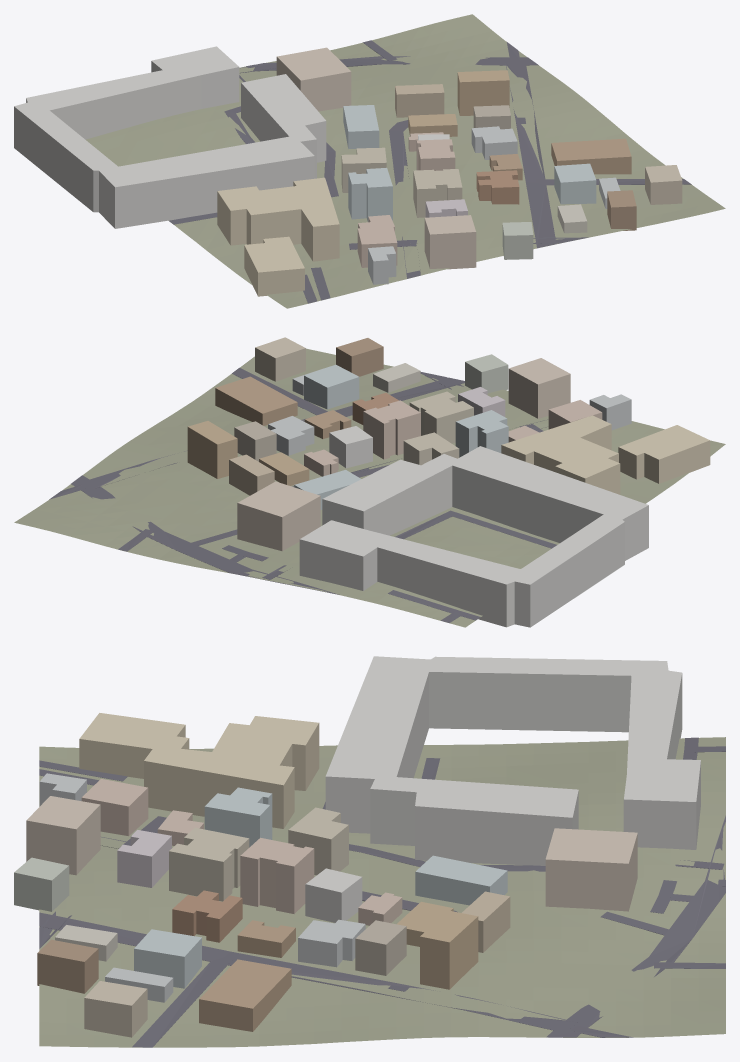
Rendered from chunk_4_1.glb.
3 renders of one model, top to bottom at view 1: azimuth 30°, elevation 25°; view 2: azimuth 150°, elevation 25°; view 3: azimuth 270°, elevation 25°, orthographic. The views are drawn at different scales.
Parts seen in each view (by area): view 1: geometry_30, geometry_0, geometry_27, geometry_20, geometry_26, geometry_32, geometry_11, geometry_29, geometry_3, geometry_23, geometry_5, geometry_10 (+19 smaller); view 2: geometry_0, geometry_30, geometry_27, geometry_20, geometry_26, geometry_11, geometry_29, geometry_4, geometry_23, geometry_31, geometry_10, geometry_5 (+21 smaller); view 3: geometry_30, geometry_0, geometry_27, geometry_20, geometry_26, geometry_29, geometry_4, geometry_11, geometry_5, geometry_32, geometry_23, geometry_31 (+23 smaller).
Boxes of the visible parts, x1=… form: geometry_30: x1=86, y1=14, x2=725, y2=308; geometry_0: x1=14, y1=46, x2=326, y2=228; geometry_27: x1=217, y1=177, x2=339, y2=261; geometry_20: x1=276, y1=47, x2=351, y2=111; geometry_26: x1=244, y1=236, x2=304, y2=296; geometry_32: x1=505, y1=61, x2=556, y2=248; geometry_11: x1=424, y1=215, x2=476, y2=269; geometry_29: x1=551, y1=138, x2=631, y2=174; geometry_3: x1=348, y1=167, x2=392, y2=221; geometry_23: x1=457, y1=70, x2=509, y2=115; geometry_5: x1=413, y1=169, x2=462, y2=217; geometry_10: x1=554, y1=163, x2=596, y2=204; geometry_0: x1=299, y1=446, x2=648, y2=627; geometry_30: x1=14, y1=348, x2=725, y2=627; geometry_27: x1=501, y1=415, x2=620, y2=494; geometry_20: x1=237, y1=481, x2=320, y2=551; geometry_26: x1=618, y1=425, x2=710, y2=483; geometry_11: x1=508, y1=358, x2=570, y2=418; geometry_29: x1=215, y1=376, x2=297, y2=425; geometry_4: x1=363, y1=400, x2=420, y2=459; geometry_23: x1=187, y1=421, x2=237, y2=478; geometry_31: x1=71, y1=475, x2=339, y2=594; geometry_10: x1=304, y1=364, x2=359, y2=409; geometry_5: x1=409, y1=391, x2=473, y2=443; geometry_30: x1=39, y1=737, x2=725, y2=1047; geometry_0: x1=325, y1=656, x2=700, y2=865; geometry_27: x1=144, y1=716, x2=319, y2=828; geometry_20: x1=545, y1=828, x2=637, y2=911; geometry_26: x1=79, y1=713, x2=189, y2=778; geometry_29: x1=199, y1=959, x2=291, y2=1031; geometry_4: x1=240, y1=837, x2=314, y2=913; geometry_11: x1=26, y1=796, x2=100, y2=875; geometry_5: x1=169, y1=827, x2=249, y2=901; geometry_32: x1=39, y1=912, x2=577, y2=1032; geometry_23: x1=420, y1=910, x2=478, y2=989; geometry_31: x1=546, y1=815, x2=725, y2=1037.
Size of the model in its own units: 278 by 28.02 by 259.
